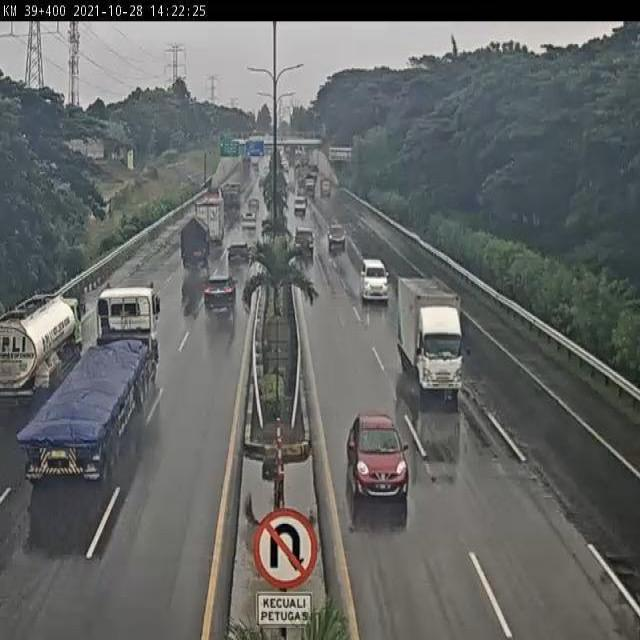car: (345, 411, 411, 509), (198, 278, 235, 326), (358, 256, 390, 305), (293, 224, 315, 259), (224, 244, 250, 273), (326, 220, 348, 252), (239, 209, 258, 236)
truck-l-: (193, 199, 225, 248)
truck-m-: (0, 292, 83, 407), (178, 217, 213, 275)
truck-s-: (396, 275, 464, 400)
truck-xl-: (18, 285, 160, 483)
